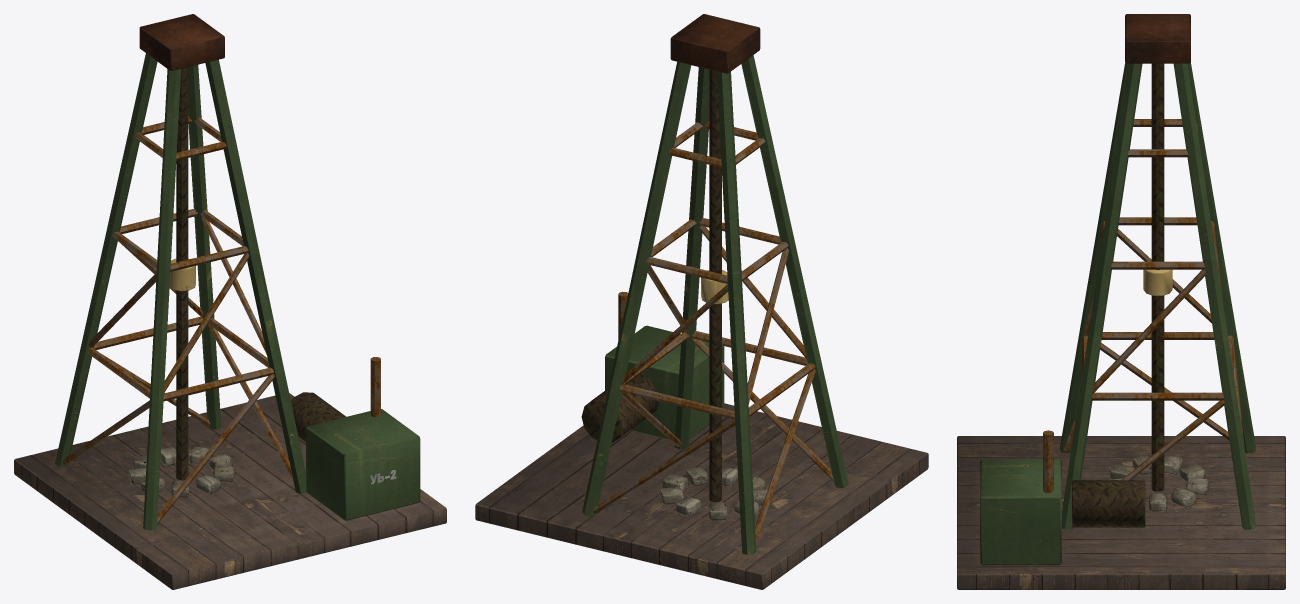
Rendered from deploy_drill.glb.
3 renders of one model, left to right at view 1: azimuth 30°, elevation 25°; view 2: azimuth 150°, elevation 25°; view 3: azimuth 270°, elevation 25°, orthographic. The views are drawn at different scales.
Parts seen in each view (by area): view 1: box, box.011, cyl, cyl.001, cyl.003, cyl.024, cyl.002, box.001, cyl.026, cyl.007, cyl.008, cyl.012 (+10 smaller); view 2: box, cyl.003, cyl.002, cyl, box.011, cyl.001, cyl.024, box.001, cyl.026, cyl.022, cyl.017, cyl.023 (+7 smaller); view 3: box, box.011, cyl.002, cyl.001, cyl.024, cyl.026, box.001, cyl, cyl.003, cyl.009, cyl.013, cyl.012 (+8 smaller).
Part boxes in pixels (x1=…): box: x1=14, y1=393, x2=446, y2=589; box.011: x1=306, y1=409, x2=420, y2=520; cyl: x1=143, y1=69, x2=181, y2=530; cyl.001: x1=205, y1=59, x2=306, y2=494; cyl.003: x1=55, y1=53, x2=157, y2=466; cyl.024: x1=176, y1=67, x2=188, y2=480; cyl.002: x1=188, y1=64, x2=221, y2=429; box.001: x1=139, y1=14, x2=224, y2=70; cyl.026: x1=291, y1=392, x2=346, y2=442; cyl.007: x1=157, y1=374, x2=274, y2=524; cyl.008: x1=164, y1=252, x2=249, y2=392; cyl.012: x1=208, y1=324, x2=293, y2=479; box: x1=475, y1=403, x2=928, y2=589; cyl.003: x1=716, y1=71, x2=756, y2=554; cyl.002: x1=582, y1=62, x2=691, y2=516; cyl: x1=741, y1=55, x2=848, y2=488; box.011: x1=605, y1=325, x2=724, y2=439; cyl.001: x1=674, y1=67, x2=709, y2=449; cyl.024: x1=709, y1=69, x2=721, y2=502; box.001: x1=670, y1=14, x2=760, y2=73; cyl.026: x1=581, y1=374, x2=658, y2=442; cyl.022: x1=755, y1=369, x2=815, y2=542; cyl.017: x1=593, y1=419, x2=735, y2=513; cyl.023: x1=747, y1=248, x2=788, y2=403; box: x1=957, y1=436, x2=1285, y2=589; box.011: x1=980, y1=459, x2=1061, y2=565; cyl.002: x1=1173, y1=63, x2=1256, y2=529; cyl.001: x1=1062, y1=63, x2=1142, y2=529; cyl.024: x1=1151, y1=63, x2=1164, y2=491; cyl.026: x1=1072, y1=480, x2=1145, y2=527; box.001: x1=1125, y1=14, x2=1190, y2=63; cyl: x1=1059, y1=62, x2=1128, y2=453; cyl.003: x1=1187, y1=62, x2=1256, y2=453; cyl.009: x1=1091, y1=392, x2=1224, y2=400; cyl.013: x1=1092, y1=269, x2=1205, y2=393; cyl.012: x1=1121, y1=400, x2=1224, y2=480.
Size of the model in its own units: 1.8 by 2.89 by 1.8.
8 materials, 8 textured.
